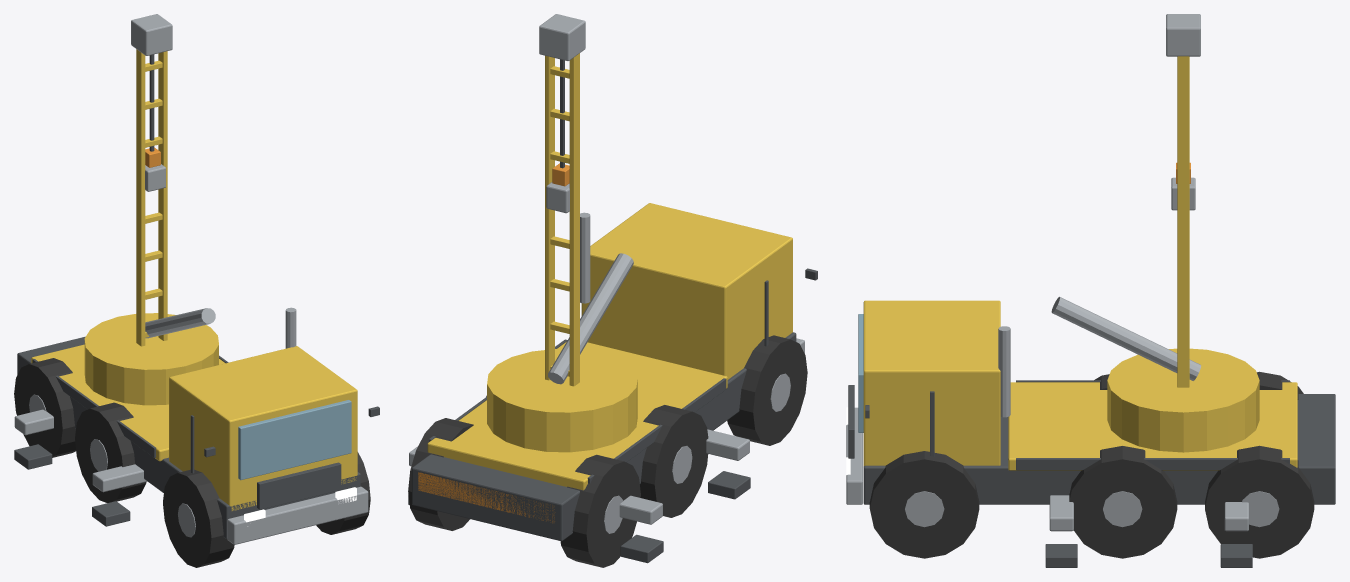
File: veh_constructor.glb
3 views of the same model, side by side, from view 1: azimuth 30°, elevation 25°; view 2: azimuth 150°, elevation 25°; view 3: azimuth 270°, elevation 25° (orthographic). The views are drawn at different scales.
Visible parts, largest first — view 1: Cab, Turret, Windshield, Wheel, Wheel.004, Wheel.002, Bumper, Deck, Chassis, BoomRail, Grille, BoomRail.001 (+12 smaller); view 2: Cab, Turret, Chassis, Deck, Wheel, Wheel.004, Wheel.002, BoomRail, BoomRail.001, BoomRam, Wheel.005, WarningChevron (+11 smaller); view 3: Cab, Turret, Deck, Chassis, Wheel.001, Wheel.003, Wheel.005, BoomRail.001, BoomRam, DeckPanel.001, BoomTip, Bumper (+9 smaller).
Boxes of the visible parts, x1,y1,x2,y2 form: Cab: (169,346,357,510); Turret: (84,313,218,405); Windshield: (238,400,351,480); Wheel: (163,469,234,567); Wheel.004: (14,358,76,457); Wheel.002: (75,402,146,502); Bumper: (227,486,368,544); Deck: (31,344,225,461); Chassis: (17,336,360,538); BoomRail: (136,49,145,346); Grille: (257,462,341,509); BoomRail.001: (158,51,167,340); Cab: (581,203,792,379); Turret: (487,349,637,452); Chassis: (412,332,796,541); Deck: (427,341,727,490); Wheel: (727,335,807,445); Wheel.004: (560,454,640,567); Wheel.002: (640,405,708,517); BoomRail: (569,53,579,386); BoomRail.001: (545,55,554,380); BoomRam: (548,253,633,384); Wheel.005: (408,418,473,530); WarningChevron: (418,472,555,523); Cab: (863,300,1000,465); Turret: (1107,348,1259,452); Deck: (1008,382,1297,470); Chassis: (863,394,1335,504); Wheel.001: (869,451,979,558); Wheel.003: (1069,446,1177,558); Wheel.005: (1205,445,1314,558); BoomRail.001: (1177,56,1189,387); BoomRam: (1051,296,1201,380); DeckPanel.001: (1016,458,1289,470); BoomTip: (1166,14,1200,56); Bumper: (846,407,862,504).
Size of the model in its own units: 3.71 by 7.16 by 6.43.
